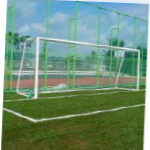goals: (15, 34, 142, 99)
